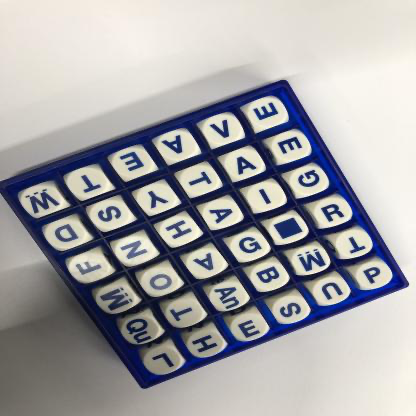a: (159, 130, 199, 160), (187, 249, 226, 277), (225, 150, 265, 177), (204, 201, 242, 228)
an: (210, 282, 247, 312)
b: (252, 263, 290, 289)
d: (43, 219, 88, 252)
e: (246, 99, 287, 128), (272, 132, 311, 161), (116, 149, 154, 176), (231, 315, 267, 342)
f: (70, 254, 110, 282)
g: (230, 232, 269, 261), (292, 167, 328, 194)
h: (161, 216, 200, 245), (188, 330, 226, 358)
i: (248, 183, 285, 211)
l: (143, 349, 182, 377)
m: (97, 286, 138, 313), (293, 247, 331, 276)
n: (115, 235, 155, 266)
o: (141, 268, 180, 295)
p: (356, 262, 390, 290)
qu: (122, 318, 161, 345)
r: (314, 197, 353, 224)
s: (272, 296, 311, 326), (93, 200, 130, 231)
t: (68, 169, 110, 200), (180, 166, 221, 194), (166, 299, 205, 328), (337, 230, 374, 259)
u: (312, 279, 350, 307)
v: (205, 114, 243, 146)
w: (23, 186, 64, 216)
wild: (269, 216, 307, 244)
y: (138, 183, 177, 212)
